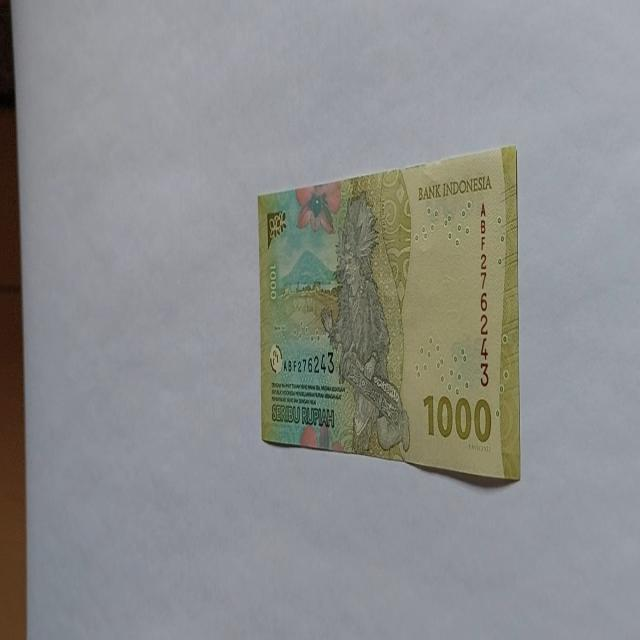seribu rupiah kertas: (256, 143, 522, 484)
